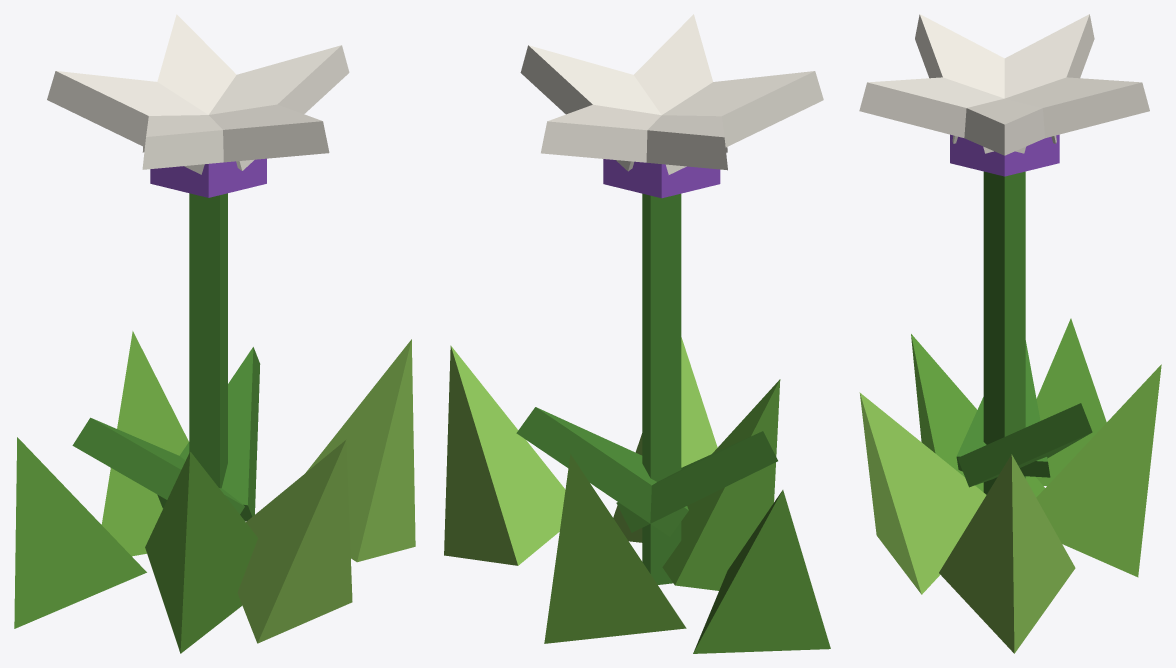
Rendered from flower_purpleC.glb.
3 renders of one model, left to right at view 1: azimuth 30°, elevation 25°; view 2: azimuth 150°, elevation 25°; view 3: azimuth 270°, elevation 25°, orthographic. The views are drawn at different scales.
Visible parts, largest first — view 1: flower_purpleC; view 2: flower_purpleC; view 3: flower_purpleC.
Part boxes in pixels (left/top/right/bottom): flower_purpleC: left=14, top=14, right=415, bottom=653; flower_purpleC: left=444, top=14, right=830, bottom=653; flower_purpleC: left=859, top=14, right=1161, bottom=653.
Size of the model in its own units: 0.162 by 0.2087 by 0.1146.
1 material, 1 textured.
